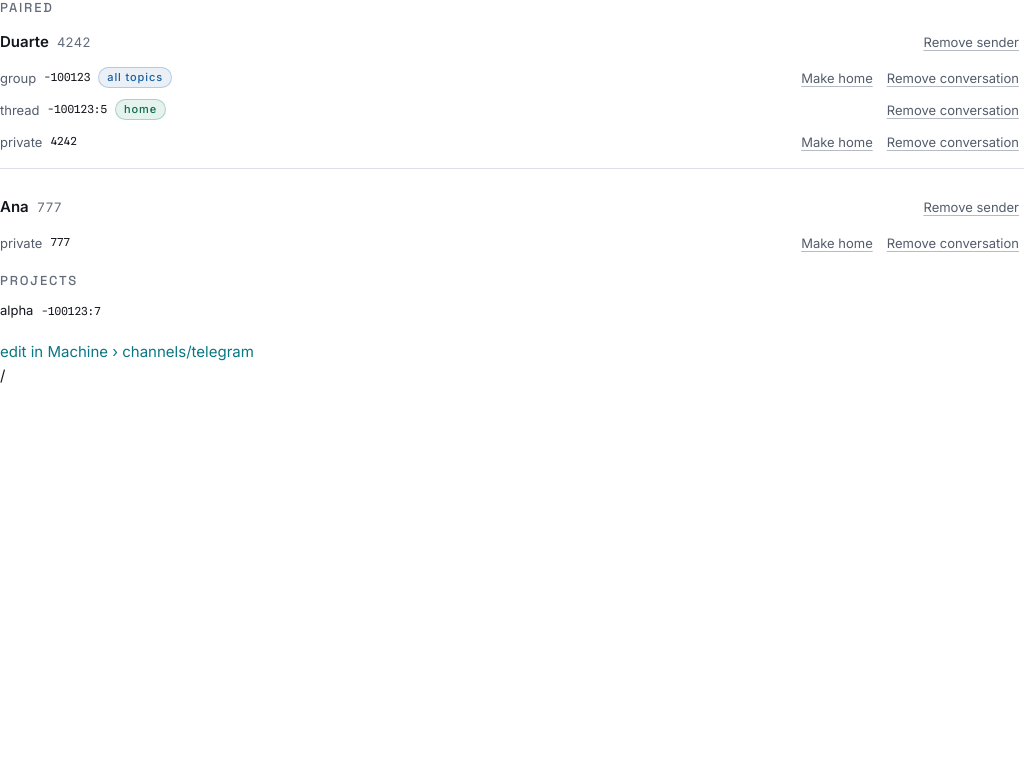
Scenario: IdentitiesPanel › actions › removes a sender with no query and reports a cleared home
Expected: the text "Duarte" is shown, [0,30,49,53]
Click the button "Remove sender" in the row of "Duarte".
click(971, 42)  # box [918,28,1023,56]
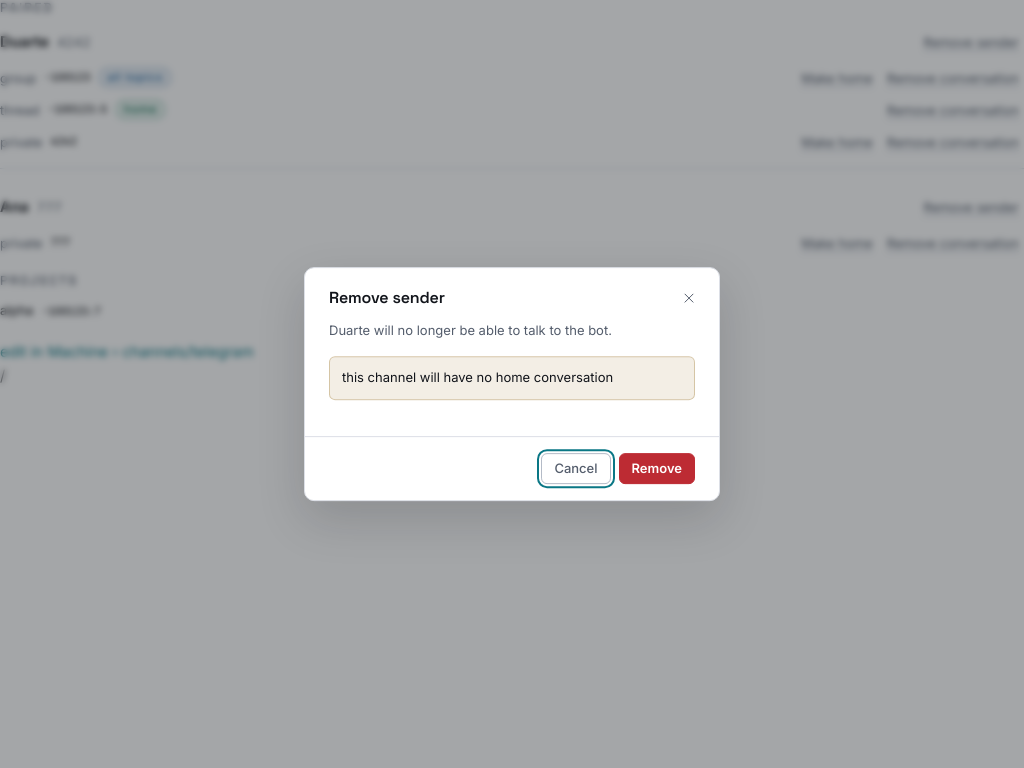
Result: the button "Remove" is shown
Click the button "Remove".
click(657, 468)  # box [618,453,695,484]
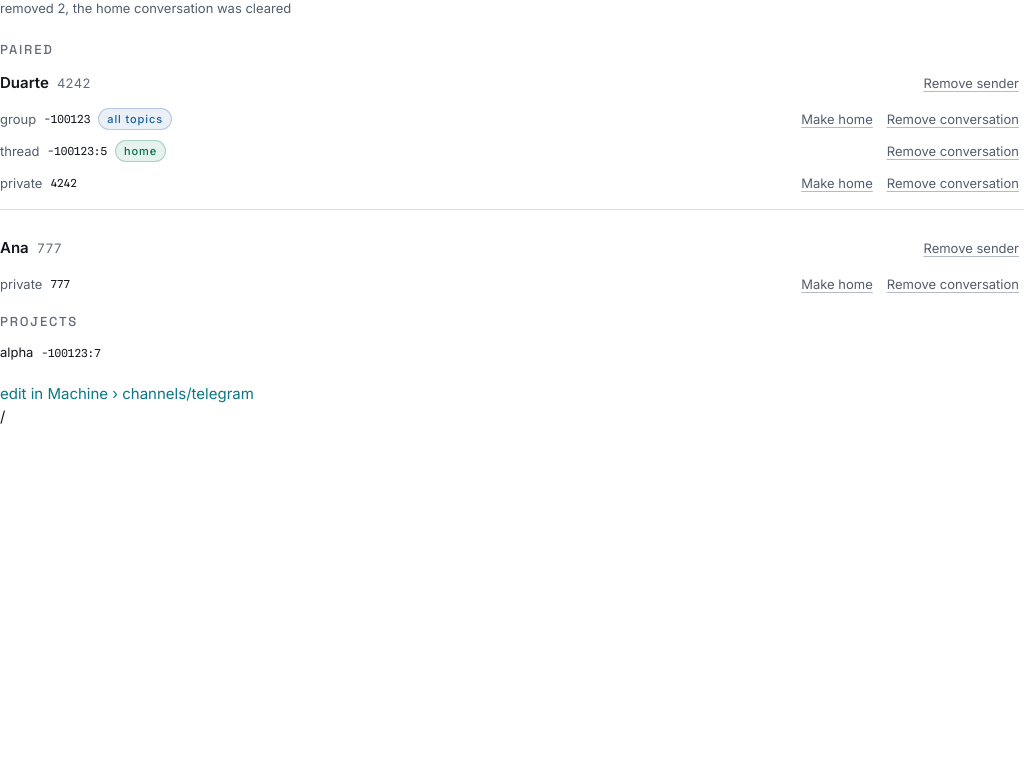
Result: the text "removed 2, the home conversation was cleared" is shown at [0,0,291,16]
